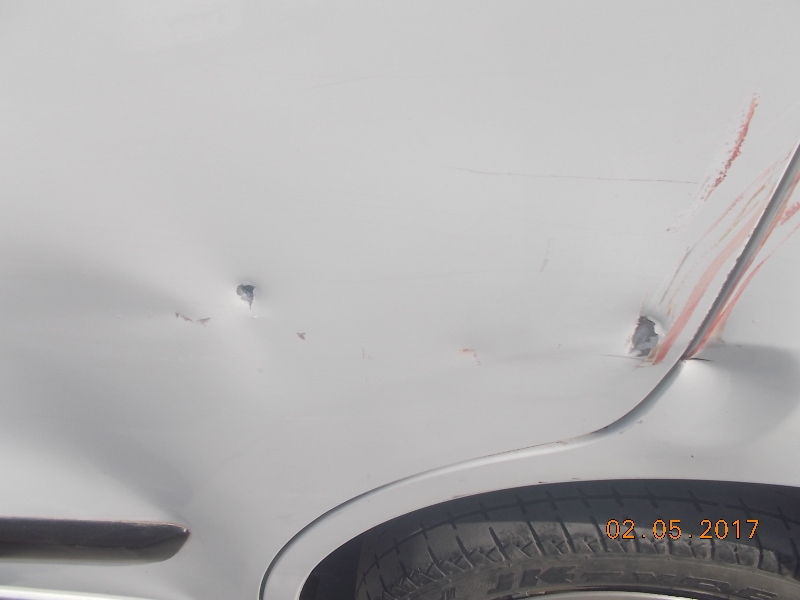Scratch_or_spot: (234, 278, 267, 315)
Tear: (621, 311, 668, 371)
